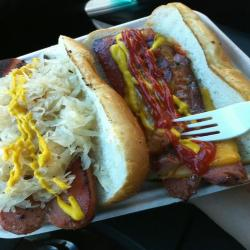hotdog: (85, 2, 250, 201), (1, 26, 151, 226)
